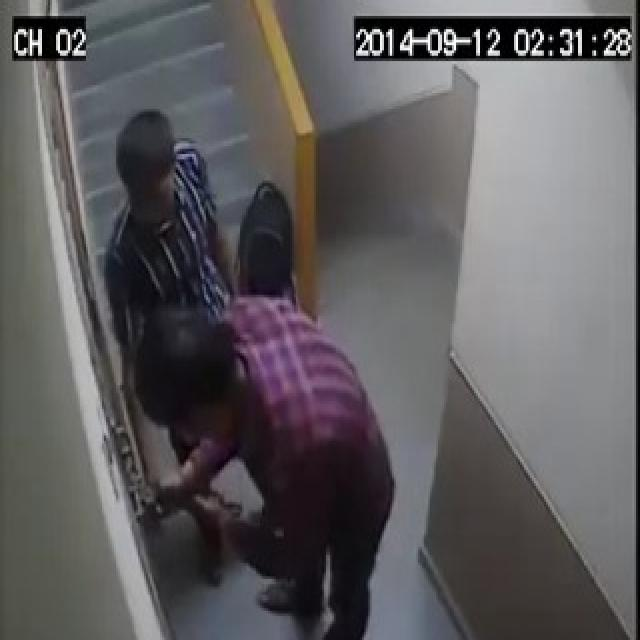burglary: (95, 316, 280, 588)
